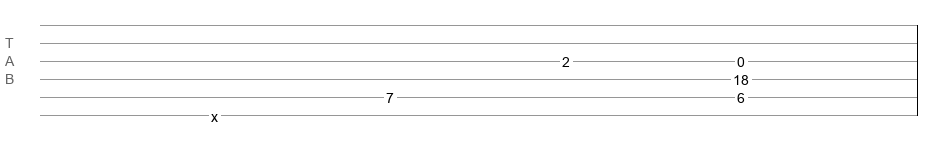0: (737, 54, 745, 64)
18: (733, 72, 749, 82)
2: (562, 54, 570, 64)
6: (737, 90, 745, 100)
7: (386, 90, 394, 100)
x: (211, 109, 218, 117)
